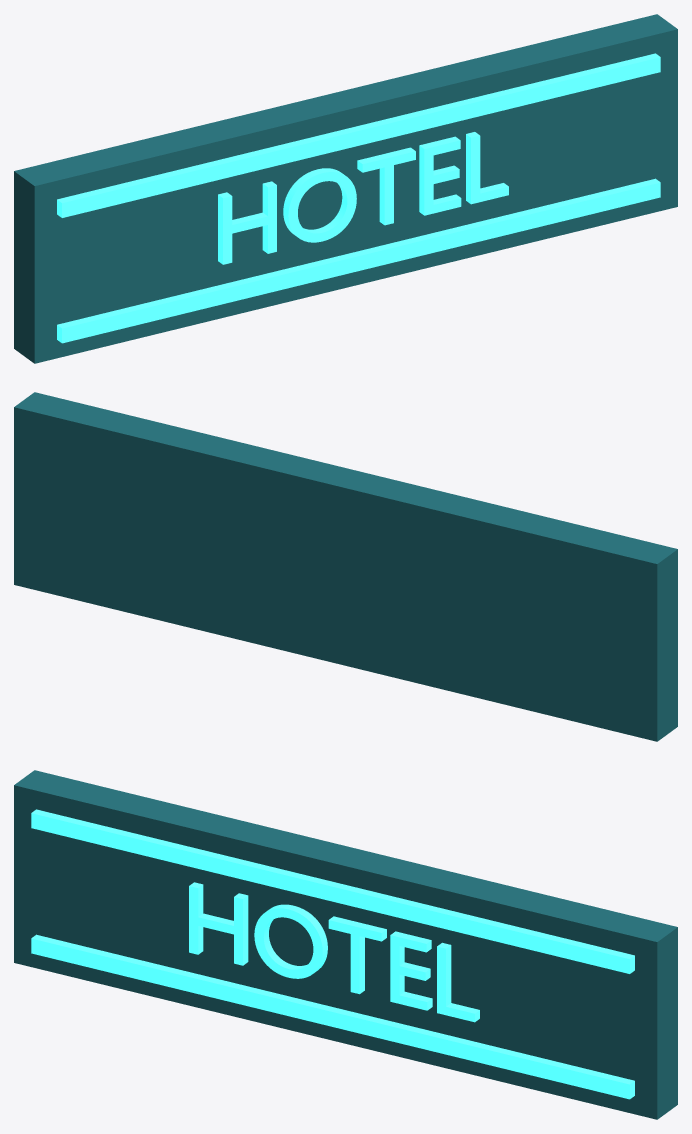
Rendered from sign_hotel.glb.
3 views of the same model, one above another, from view 1: azimuth 30°, elevation 25°; view 2: azimuth 150°, elevation 25°; view 3: azimuth 330°, elevation 25° (orthographic).
Visible parts, largest first — view 1: sign_hotel; view 2: sign_hotel; view 3: sign_hotel.
Part boxes in pixels (<box>): sign_hotel: <box>14,14,677,363</box>; sign_hotel: <box>14,392,677,741</box>; sign_hotel: <box>14,770,677,1119</box>.
Size of the model in its own units: 3.6 by 0.95 by 0.265.
